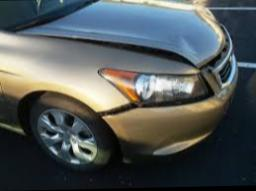Bonnet: (22, 0, 225, 71)
Bumper: (101, 26, 238, 165)
